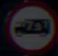Heavy Vehicles: (1, 4, 53, 46)
